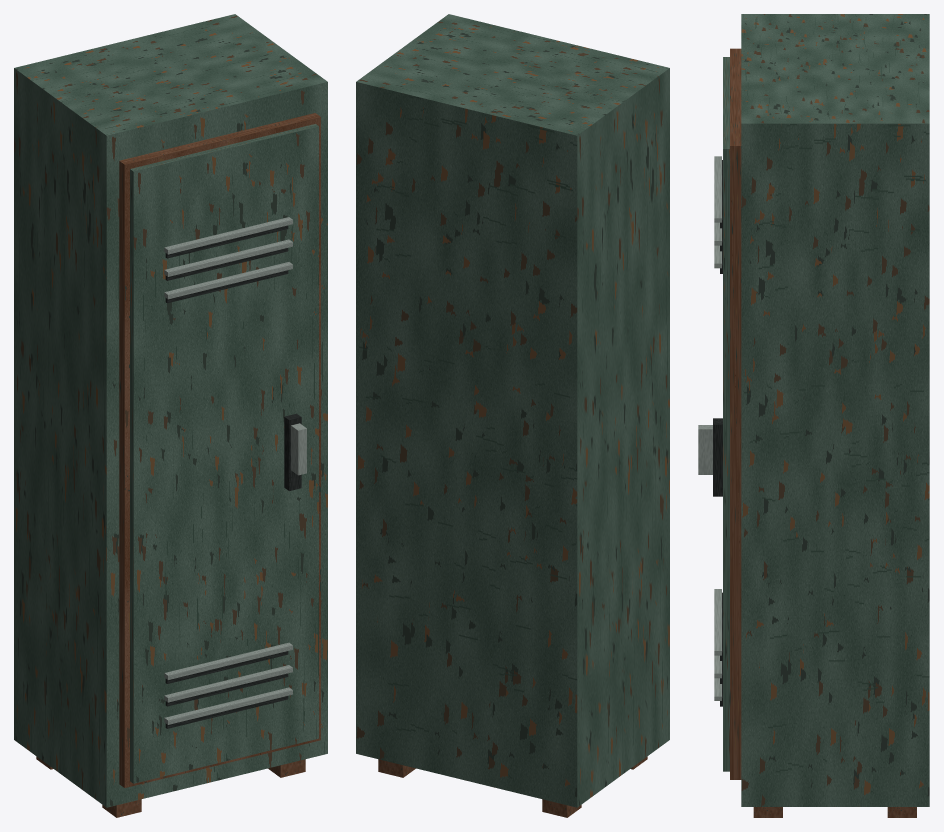
Rendered from Locker.glb.
The picture shows the model from 3 angles, left to right: view 1: azimuth 30°, elevation 25°; view 2: azimuth 150°, elevation 25°; view 3: azimuth 270°, elevation 25°; orthographic projection.
Visible parts, largest first — view 1: Locker; view 2: Locker; view 3: Locker.
Boxes of the visible parts, box(x1,y1,x2,y2) form: Locker: box(14, 14, 327, 817); Locker: box(356, 14, 669, 817); Locker: box(698, 14, 929, 817).
Bounding box in the file's own units: 0.62 × 1.85 × 0.5525.
4 materials, 4 textured.
